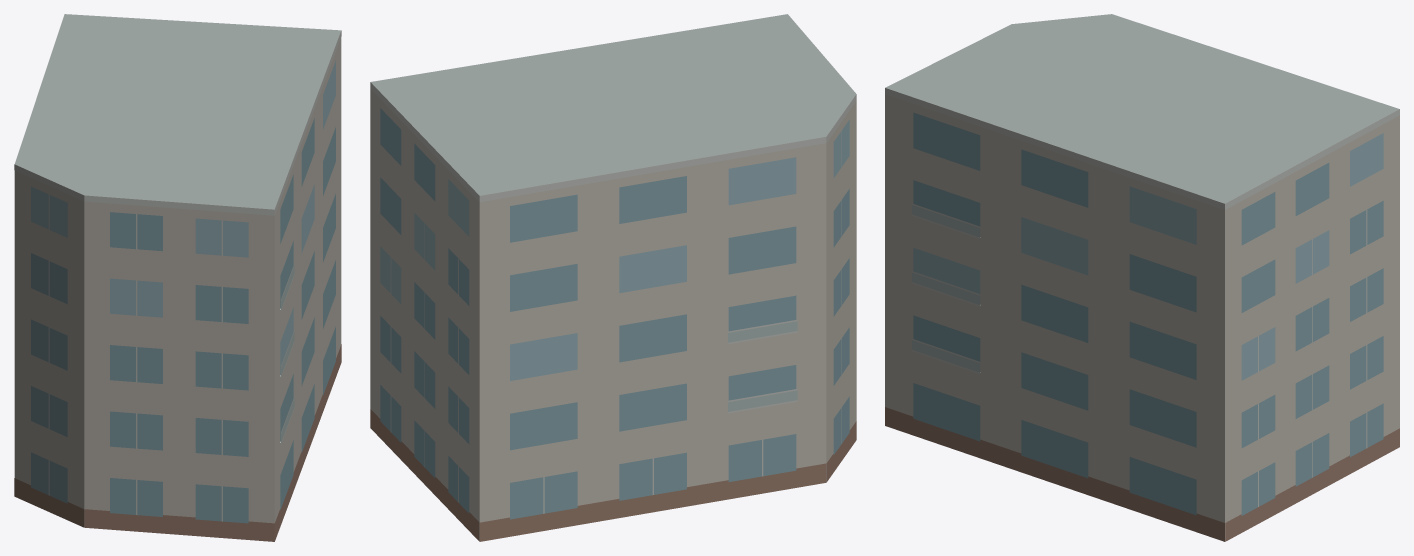
The model's file is survey-upis-32844566.glb.
The picture shows the model from 3 angles, left to right: view 1: azimuth 30°, elevation 25°; view 2: azimuth 150°, elevation 25°; view 3: azimuth 270°, elevation 25°; orthographic projection. The views are drawn at different scales.
Parts seen in each view (by area): view 1: survey-upis-32844566.tmp; view 2: survey-upis-32844566.tmp; view 3: survey-upis-32844566.tmp.
Part boxes in pixels (<box>): survey-upis-32844566.tmp: <box>14,14,341,541</box>; survey-upis-32844566.tmp: <box>370,14,856,541</box>; survey-upis-32844566.tmp: <box>885,14,1399,541</box>.
Size of the model in its own units: 15.91 by 13.2 by 18.22.
